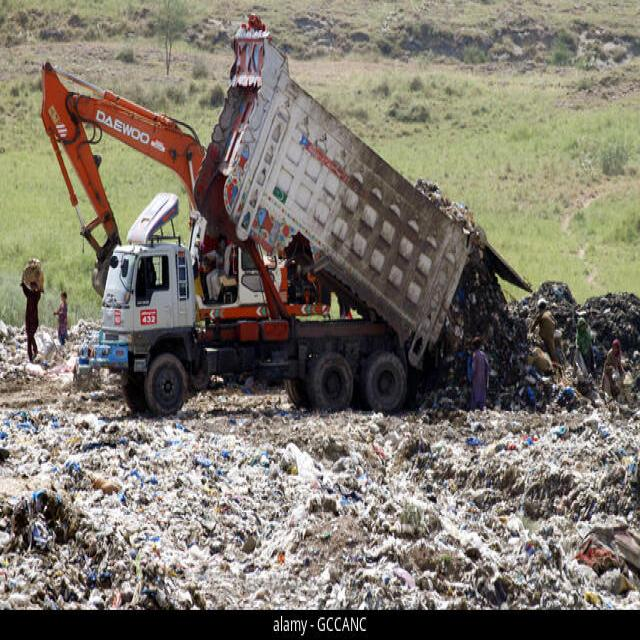trash: (27, 391, 606, 589), (476, 283, 630, 371)
